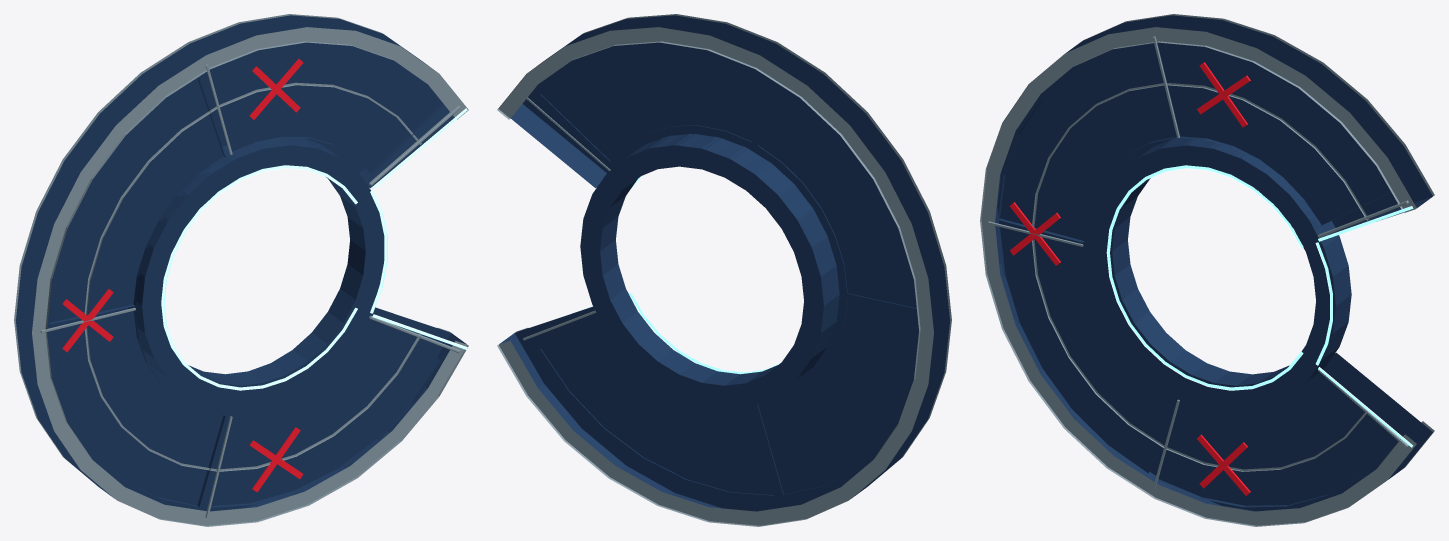
The model's file is foundry-panel-fun4-low.glb.
The picture shows the model from 3 angles, left to right: view 1: azimuth 30°, elevation 25°; view 2: azimuth 150°, elevation 25°; view 3: azimuth 330°, elevation 25°; orthographic projection.
Visible parts, largest first — view 1: RENDER_PANEL_SHELL, RENDER_PANEL_FRAME, RENDER_PANEL_SIGNAL, RENDER_PANEL_HAZARD; view 2: RENDER_PANEL_SHELL, RENDER_PANEL_FRAME, RENDER_PANEL_SIGNAL; view 3: RENDER_PANEL_SHELL, RENDER_PANEL_FRAME, RENDER_PANEL_SIGNAL, RENDER_PANEL_HAZARD.
Boxes of the visible parts, <box> form: RENDER_PANEL_SHELL: <box>16,15,466,511</box>; RENDER_PANEL_FRAME: <box>14,14,468,526</box>; RENDER_PANEL_SIGNAL: <box>161,108,467,390</box>; RENDER_PANEL_HAZARD: <box>62,58,303,492</box>; RENDER_PANEL_SHELL: <box>499,15,949,511</box>; RENDER_PANEL_FRAME: <box>497,14,951,526</box>; RENDER_PANEL_SIGNAL: <box>569,176,779,374</box>; RENDER_PANEL_SHELL: <box>995,15,1432,511</box>; RENDER_PANEL_FRAME: <box>980,14,1434,526</box>; RENDER_PANEL_SIGNAL: <box>1106,165,1413,447</box>; RENDER_PANEL_HAZARD: <box>1009,62,1250,495</box>.
Size of what is drawn, in the model's own units: 38.44 by 40.97 by 3.09.
